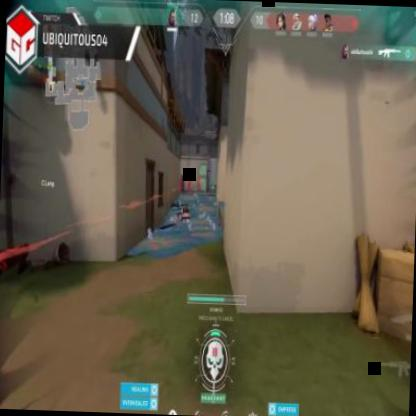enemy: (187, 173, 192, 194), (178, 176, 182, 193), (197, 178, 202, 190)
enemy_head: (188, 174, 192, 179), (179, 175, 181, 181), (198, 177, 200, 181)
